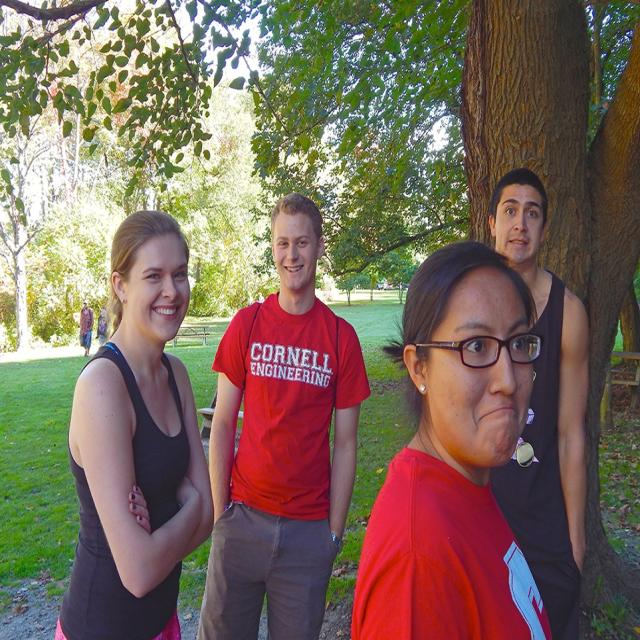body: (346, 237, 564, 639), (192, 186, 376, 639), (49, 207, 218, 639), (485, 164, 594, 639), (78, 301, 95, 358), (94, 303, 112, 350)
